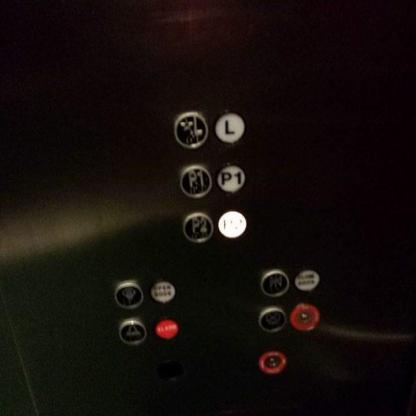L: (214, 110, 245, 144)
P1: (178, 164, 211, 198), (216, 163, 246, 193)
P2: (182, 211, 212, 243)
alarm: (118, 317, 145, 348)
blur: (216, 208, 246, 239)
close: (259, 267, 290, 298)
indicator: (290, 302, 320, 331), (257, 349, 287, 374)
open: (113, 280, 143, 310)
sL: (173, 108, 207, 149)
stop: (256, 305, 286, 333)
text_alarm bell: (153, 316, 179, 340)
text_blur: (293, 268, 321, 292), (150, 278, 175, 304)
